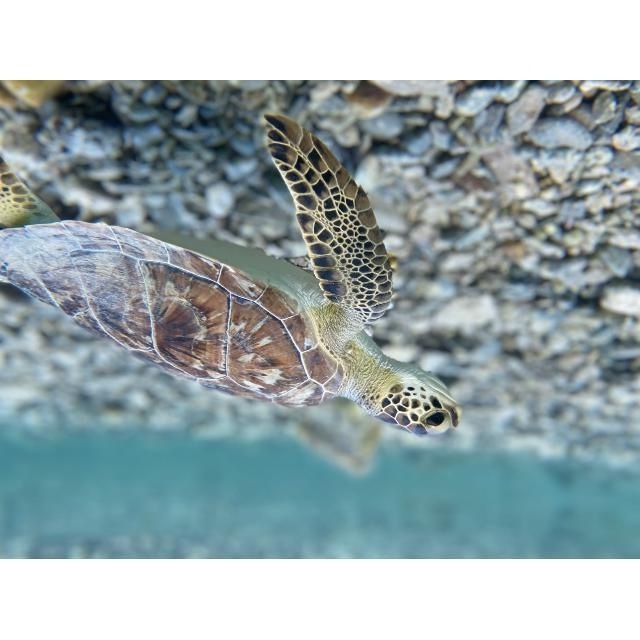turtle: (2, 111, 462, 440)
